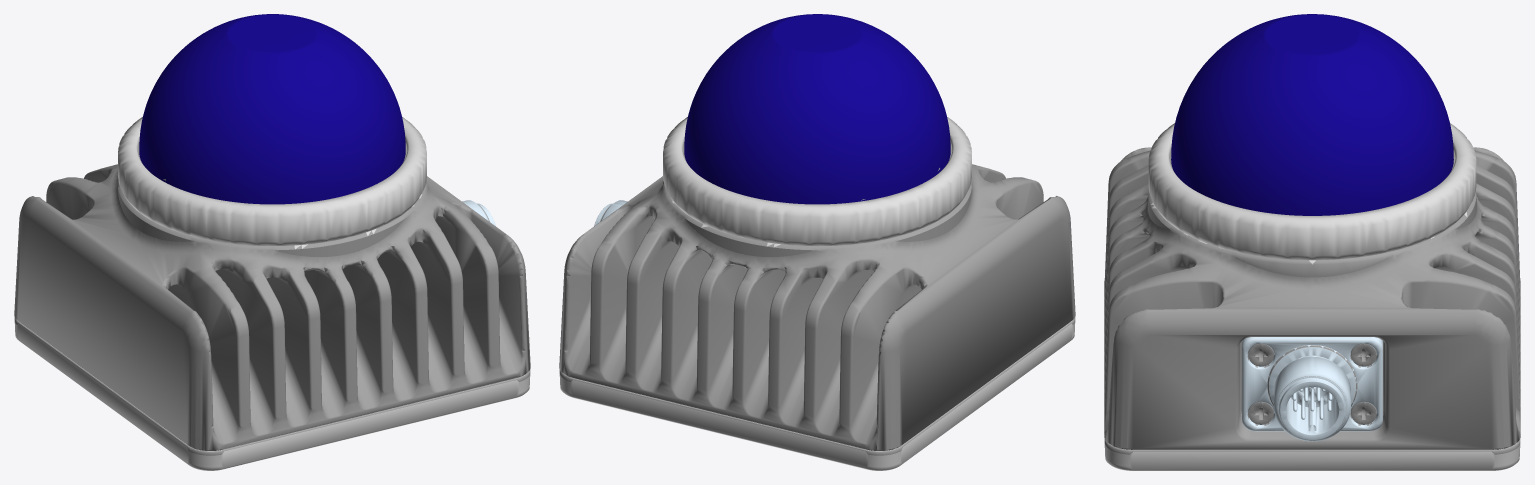
The model's file is mid-360.obj.
3 renders of one model, left to right at view 1: azimuth 30°, elevation 25°; view 2: azimuth 150°, elevation 25°; view 3: azimuth 270°, elevation 25°, orthographic. The views are drawn at different scales.
Visible parts, largest first — view 1: mid-360; view 2: mid-360; view 3: mid-360.
Part boxes in pixels (left/top/right/bottom): mid-360: left=14, top=14, right=530, bottom=470; mid-360: left=559, top=14, right=1075, bottom=470; mid-360: left=1104, top=14, right=1520, bottom=470.
Bounding box in the file's own units: 0.0727 × 0.0601 × 0.0649.
